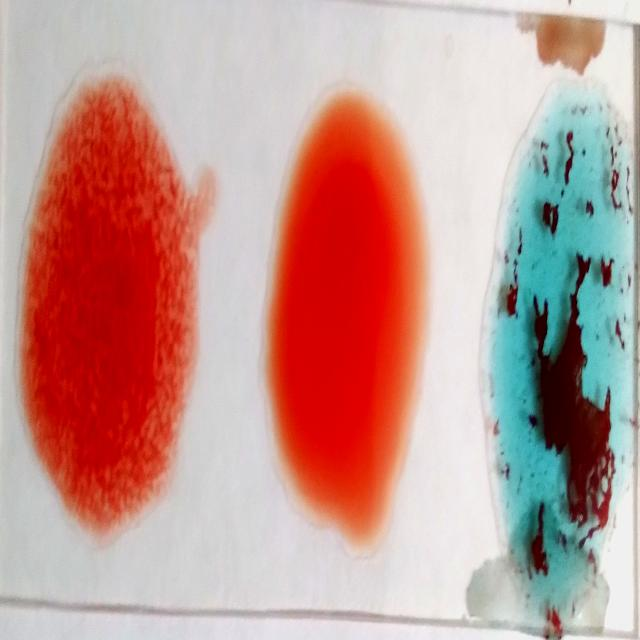A: (486, 109, 636, 586)
D: (16, 85, 196, 524)
